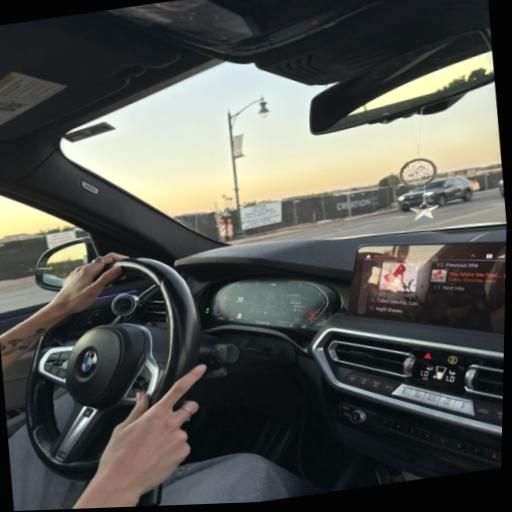Hands-on-the-Wheel: (46, 342, 277, 507), (28, 232, 168, 335)
